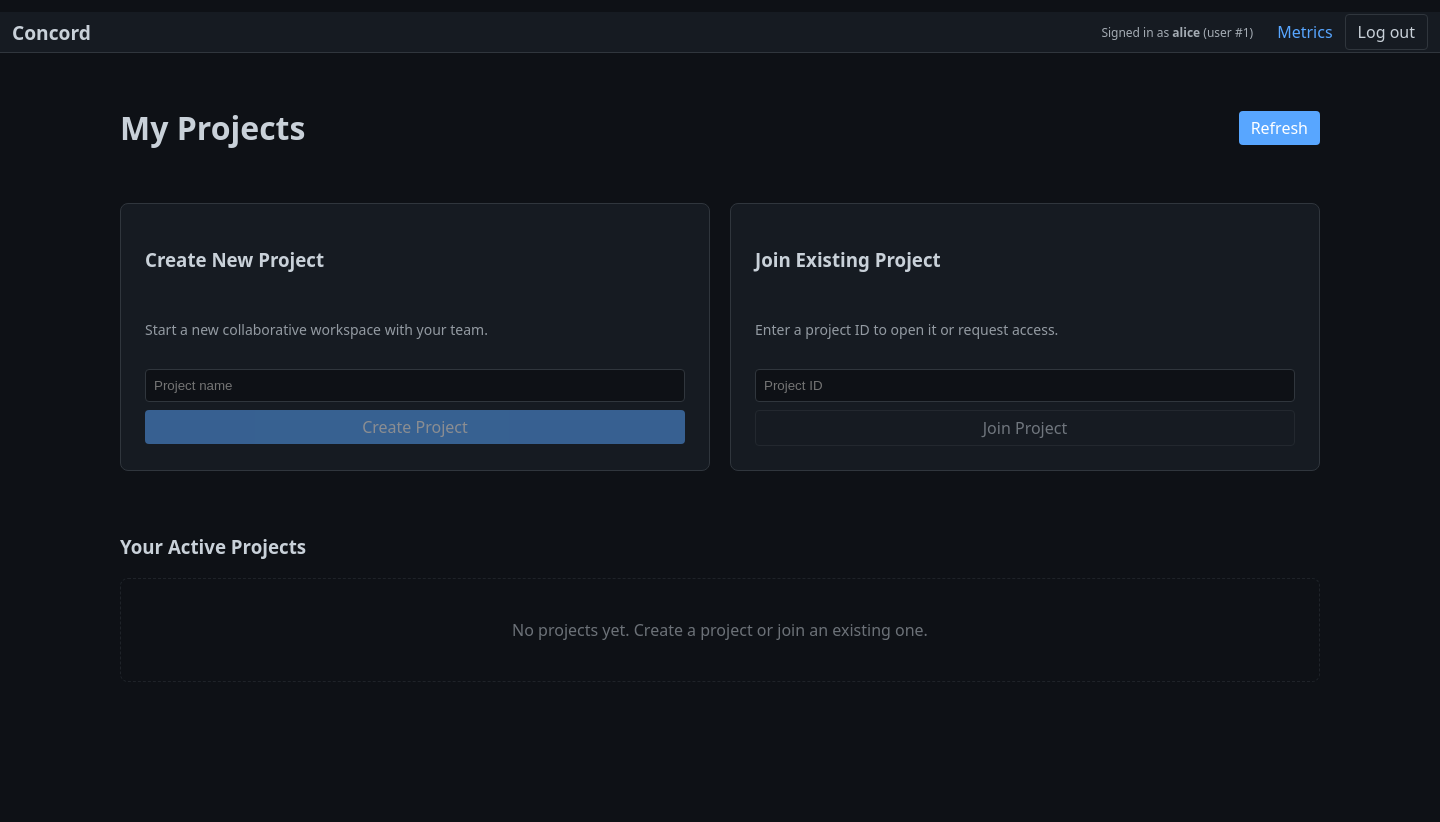
DashboardPage › a 403 on join offers Request access instead of an alert, and sends the request
Type "7" into the field with placeholder "Project ID". click: (1025, 386)
box: [755, 369, 1295, 402]
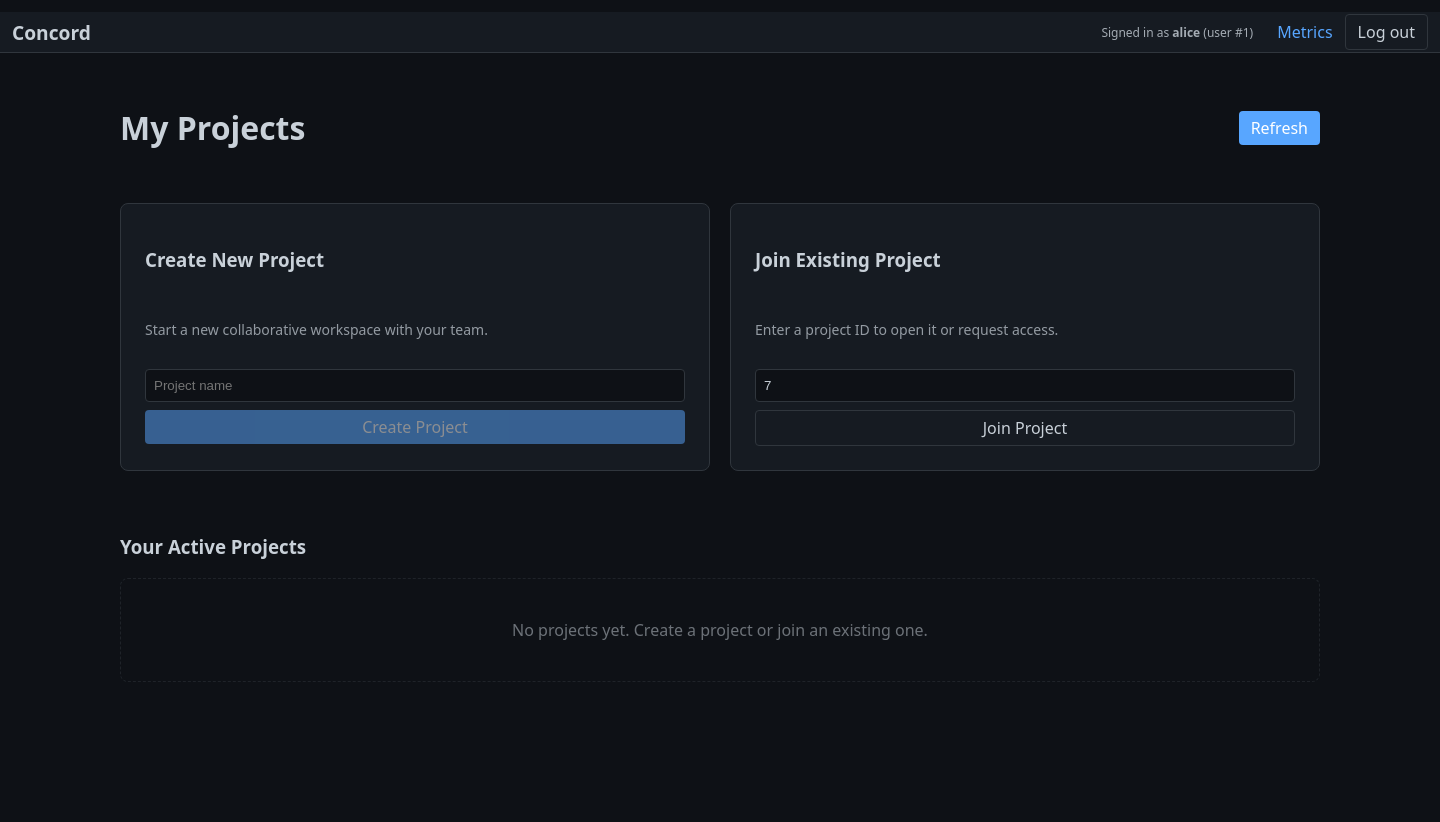
Click the button "Join Project". click: click(1025, 428)
box: [755, 410, 1295, 446]
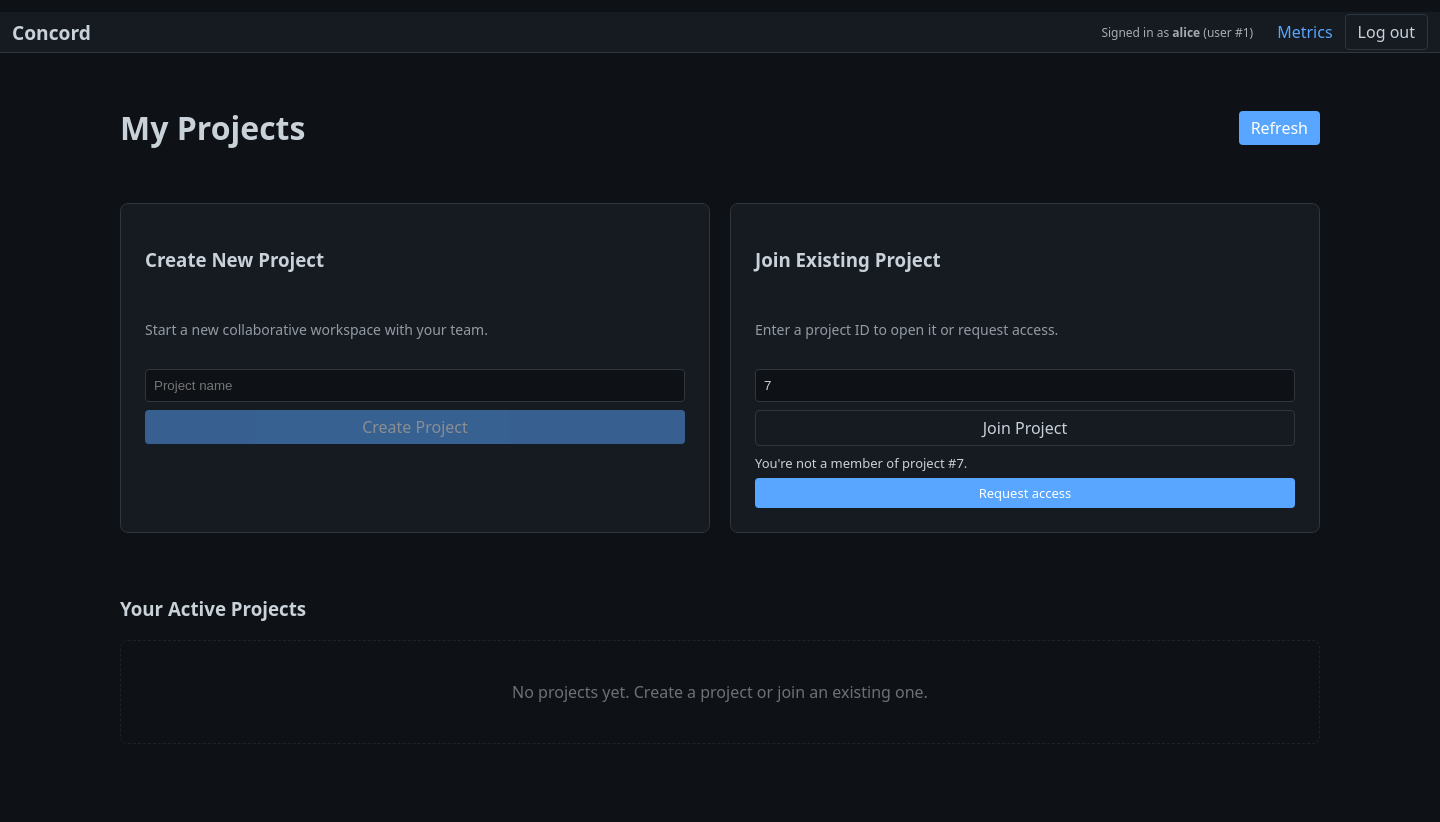
Click the button "Request access". click: click(1025, 493)
box: [755, 478, 1295, 508]
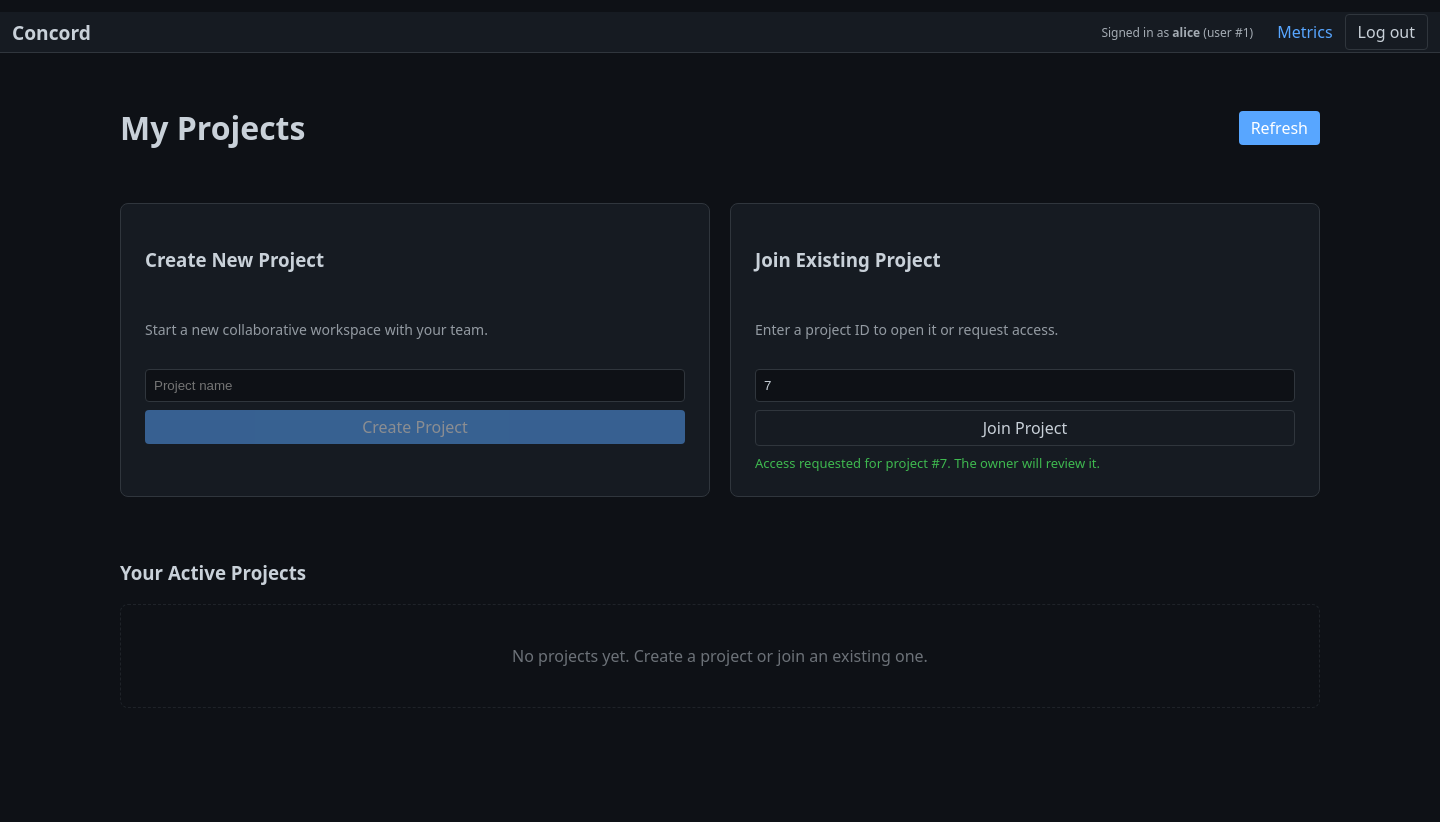
Expected: the message shows "Access requested for project #7", [755, 454, 1100, 472]
